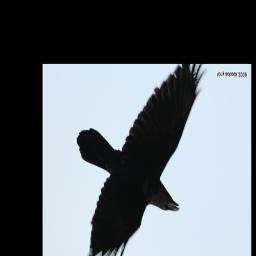Crow: (76, 64, 206, 256)
